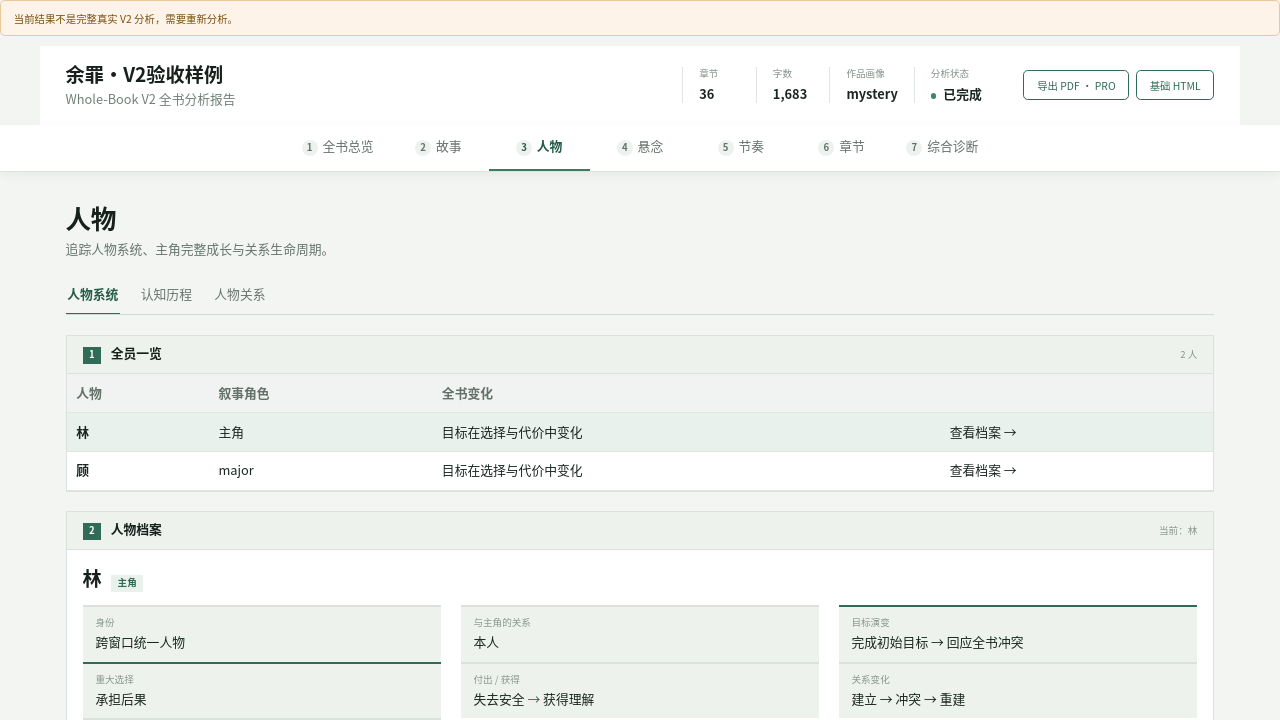
Test case: 节点内容的展开 › 信息量大的节点列成文字清单，partial 不进清单
Click the button "认知历程": {"x": 166, "y": 294} [139, 275, 194, 314]
(page scrolled)
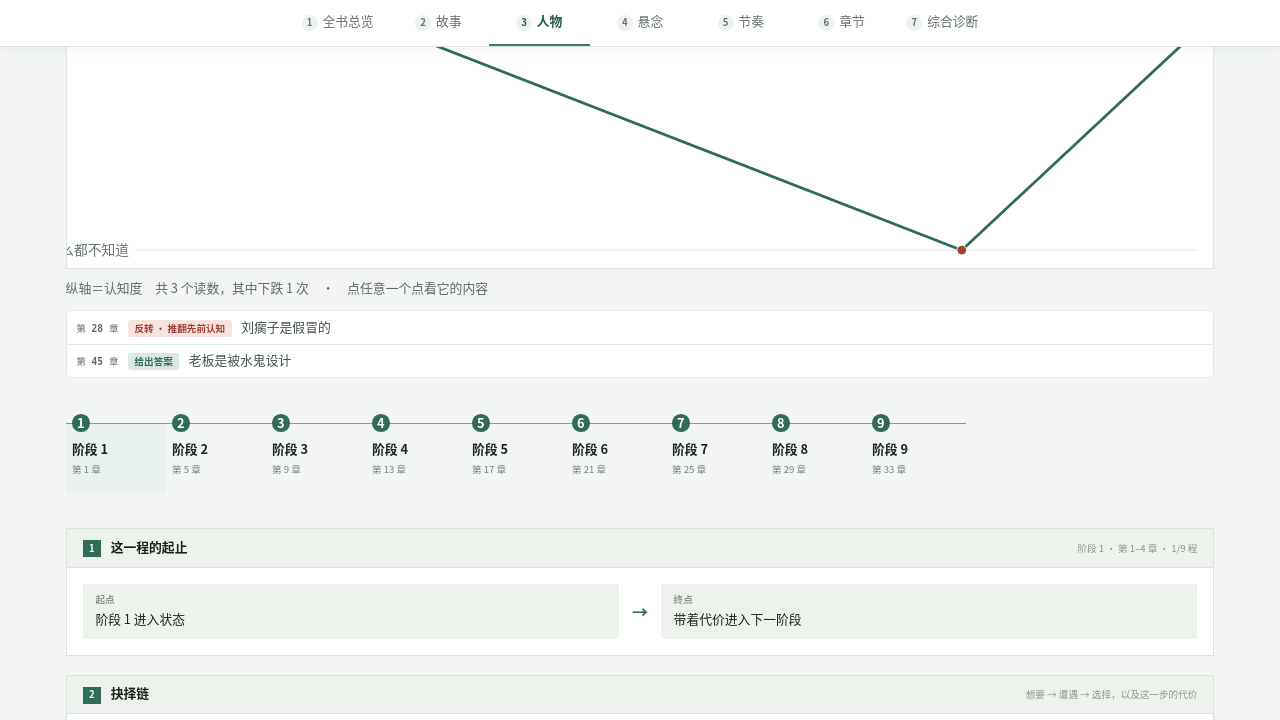
Click the button "第 45 章 给出答案 老板是被水鬼设计": {"x": 154, "y": 362} [67, 345, 1213, 377]
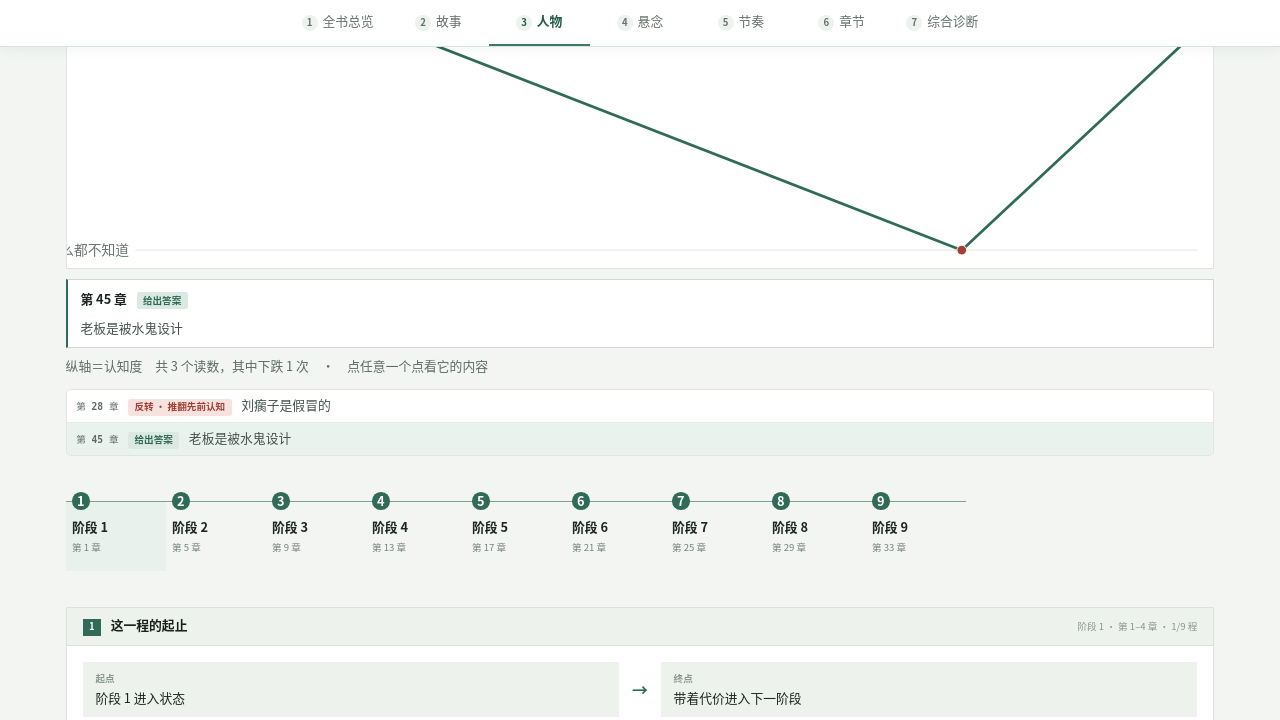
Result: the element with class "wb2-journey-point-detail" shows "老板是被水鬼设计" at [80, 318, 183, 337]
